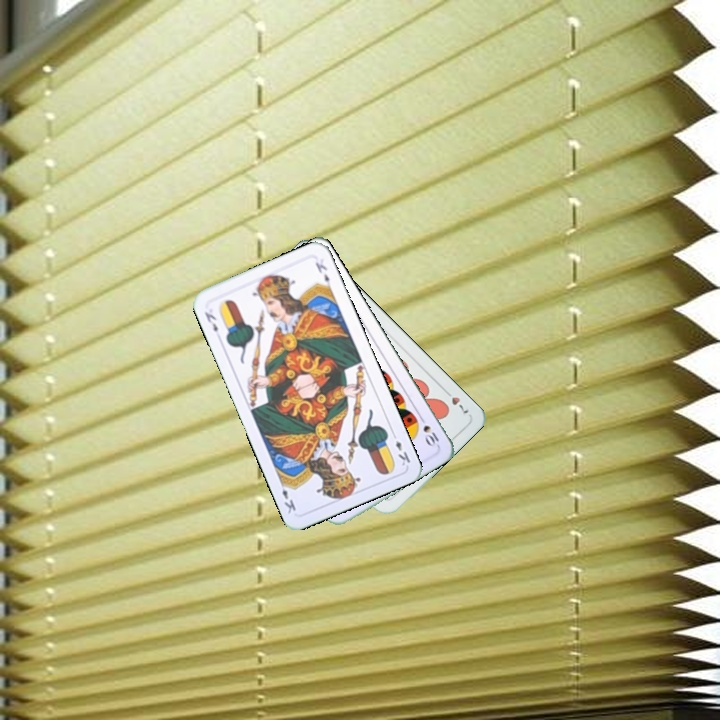EK: (388, 428, 413, 468), (200, 308, 220, 335)
H7: (440, 385, 471, 417)
S10: (415, 411, 442, 450)
